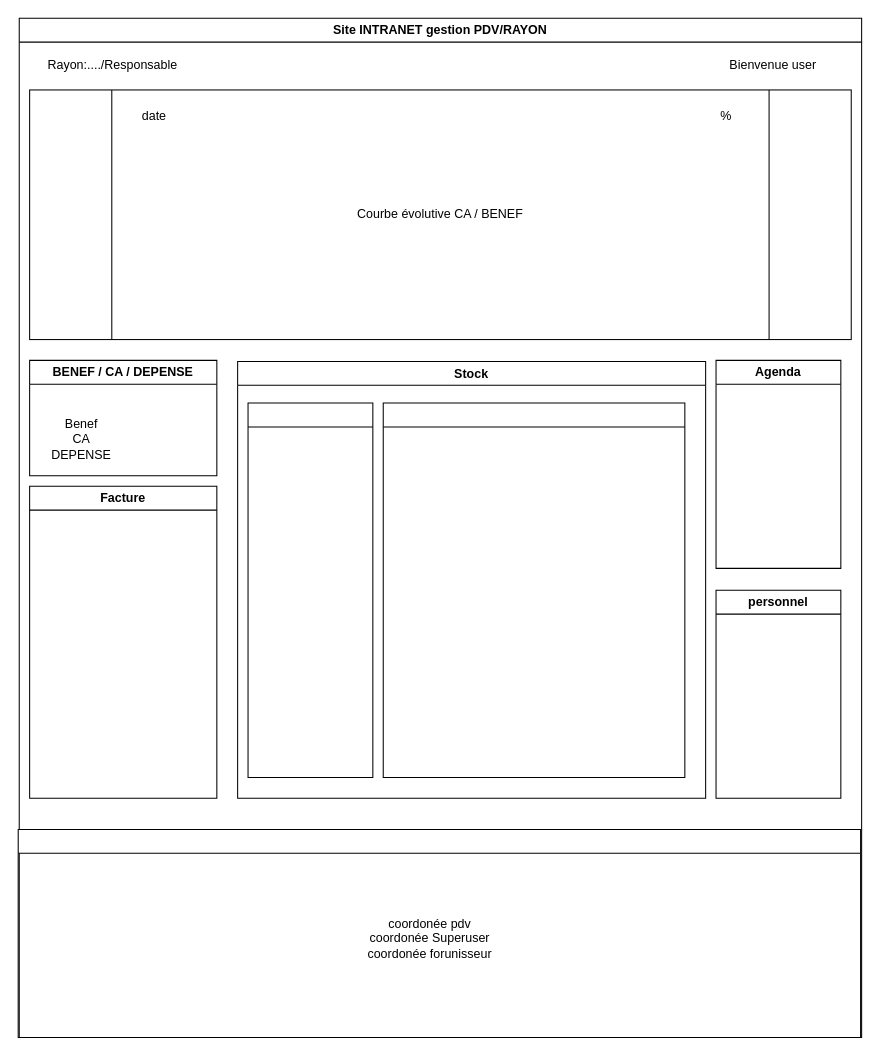
Image size: 880x1056. Some labels were removed from this diagram. The box of each missing label's shape, as (x1, y1, x2, y2) in pixels:
category: (247, 402, 373, 777)
footer: (17, 828, 861, 1037)
Vertical Container: (382, 402, 685, 777)
